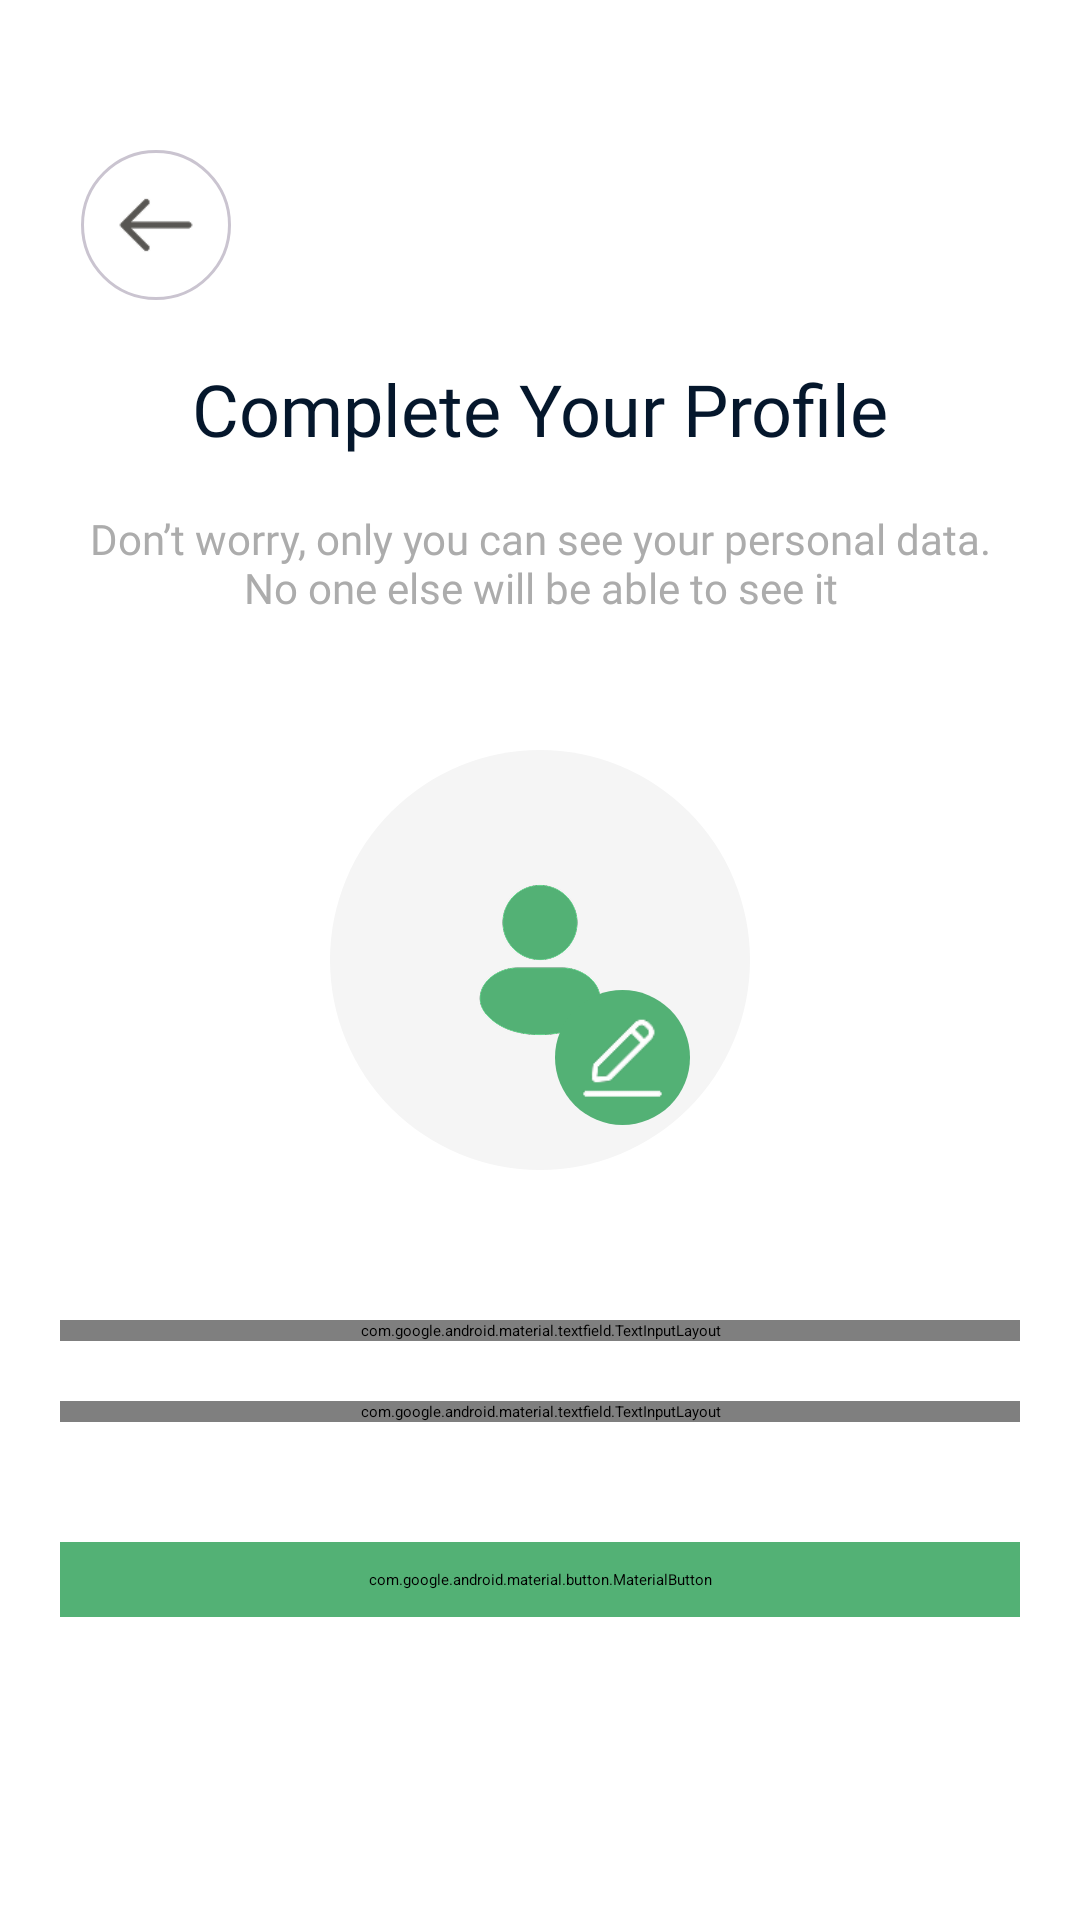

Icon bounding boxes for this 1080px×1920px phone screenshot, format (x1, y1, x2, y2):
back: (81, 150, 231, 300)
